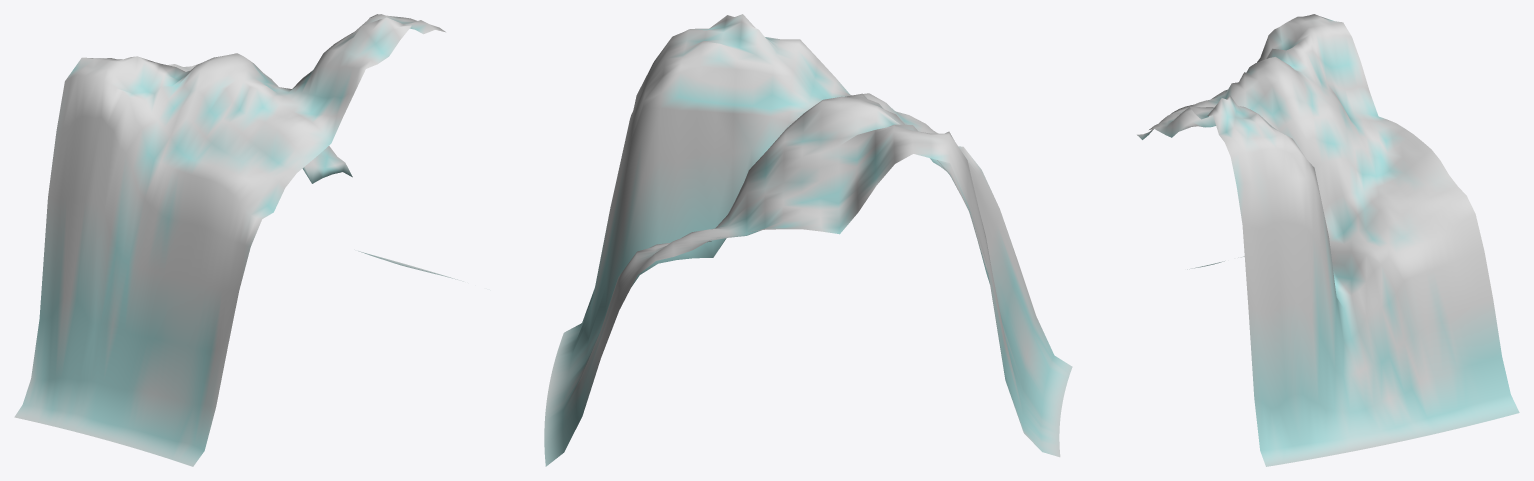
The model's file is middle_15.glb.
3 views of the same model, side by side, from view 1: azimuth 30°, elevation 25°; view 2: azimuth 150°, elevation 25°; view 3: azimuth 270°, elevation 25° (orthographic). The views are drawn at different scales.
Parts seen in each view (by area): view 1: Mountain; view 2: Mountain; view 3: Mountain.
Part boxes in pixels (x1,y1,x2,y2): Mountain: (14, 14, 463, 466); Mountain: (544, 14, 1072, 466); Mountain: (1137, 14, 1519, 466).
Size of the model in its own units: 673 by 435 by 546.
